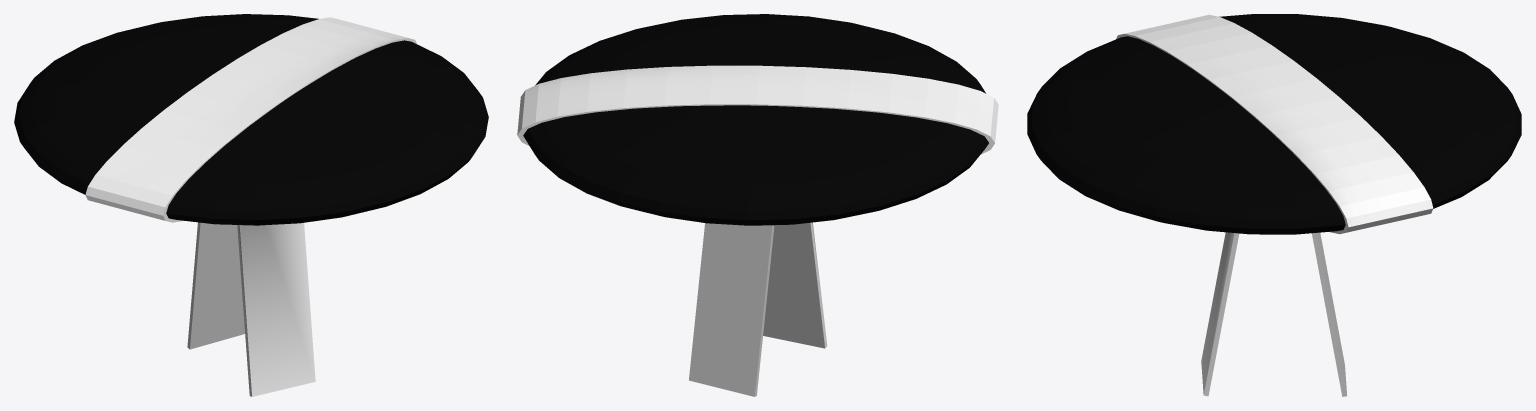
3 views of the same model, side by side, from view 1: azimuth 30°, elevation 25°; view 2: azimuth 150°, elevation 25°; view 3: azimuth 270°, elevation 25° (orthographic). The views are drawn at different scales.
Parts seen in each view (by area): view 1: 球.001, 円柱, 立方体.001, 立方体; view 2: 球.001, 円柱, 立方体, 立方体.001; view 3: 球.001, 円柱, 立方体.001, 立方体.
Boxes of the visible parts, bbox=[...] form: 球.001: bbox=[14, 14, 488, 225]; 円柱: bbox=[85, 17, 416, 222]; 立方体.001: bbox=[237, 223, 315, 396]; 立方体: bbox=[187, 222, 244, 349]; 球.001: bbox=[523, 14, 988, 225]; 円柱: bbox=[517, 65, 998, 154]; 立方体: bbox=[689, 223, 774, 396]; 立方体.001: bbox=[763, 222, 827, 348]; 球.001: bbox=[1027, 14, 1521, 234]; 円柱: bbox=[1116, 14, 1433, 234]; 立方体.001: bbox=[1201, 232, 1239, 396]; 立方体: bbox=[1312, 232, 1347, 396].
Bounding box in the file's own units: 14.2 × 9.29 × 14.2.
3 materials, 2 textured.
